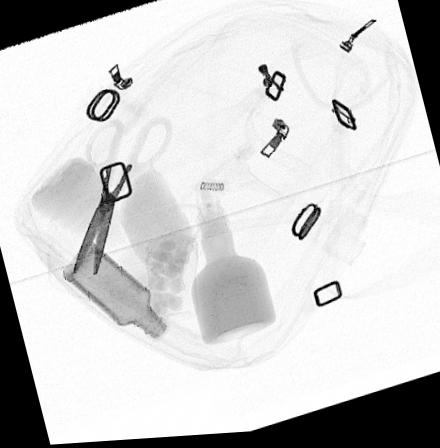Scissors: (69, 114, 173, 277)
